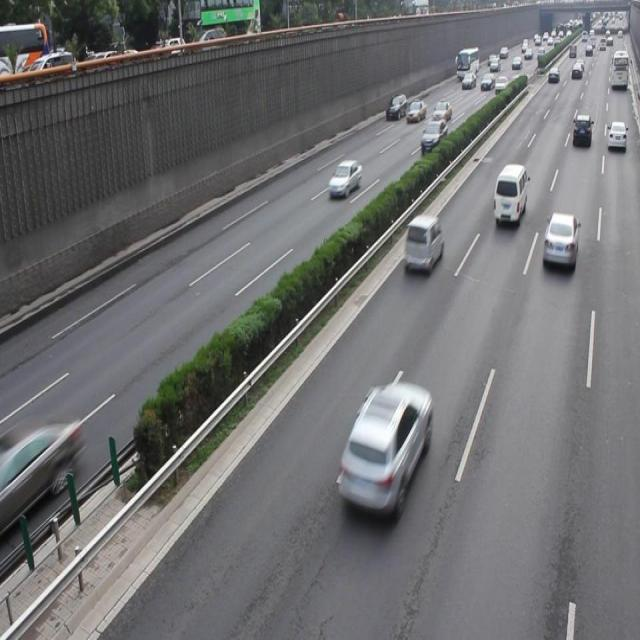car: (337, 380, 430, 517), (1, 413, 82, 519), (403, 213, 441, 273), (540, 211, 576, 271), (327, 160, 361, 198)
truck: (492, 164, 525, 226)
